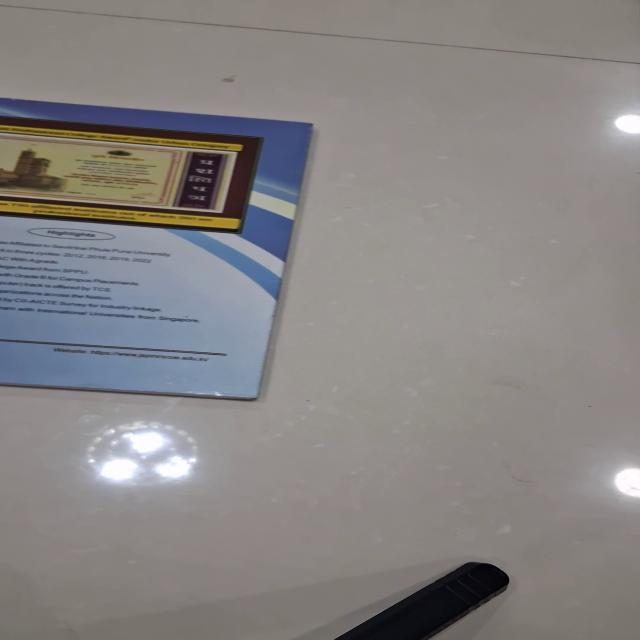paper: (0, 99, 313, 401)
